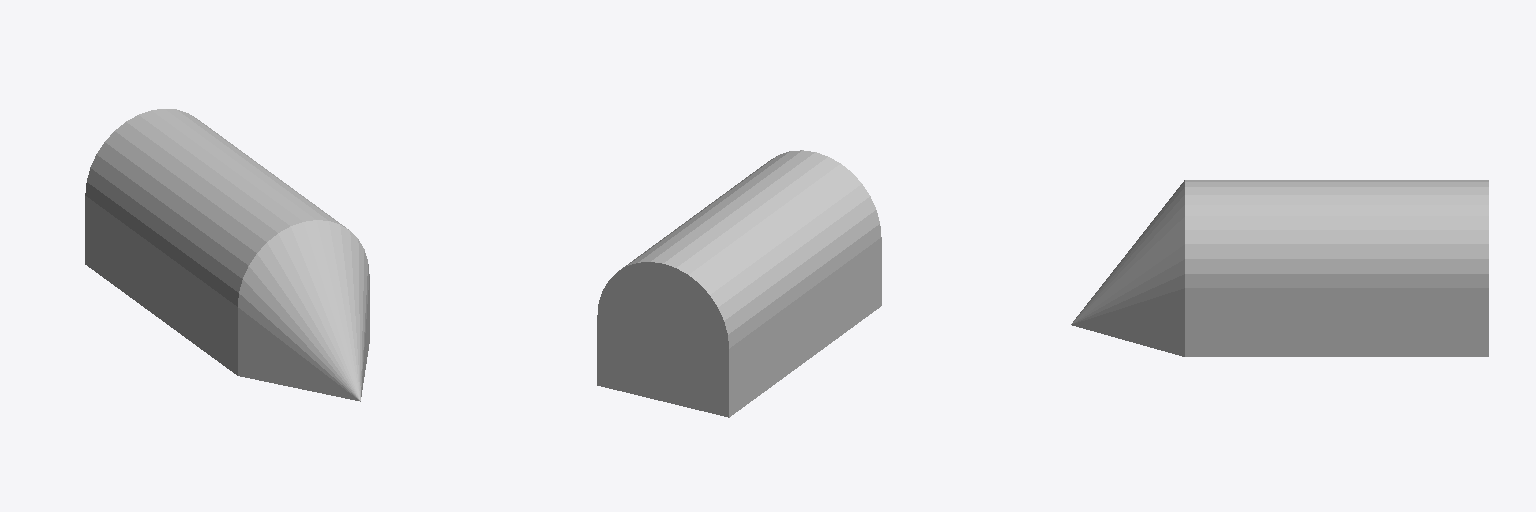
Rendered from CarBody.obj.
3 renders of one model, left to right at view 1: azimuth 30°, elevation 25°; view 2: azimuth 150°, elevation 25°; view 3: azimuth 270°, elevation 25°, orthographic.
Visible parts, largest first — view 1: Cylinder, Cylinder.001, Cube, Cube.001; view 2: Cylinder, Cube; view 3: Cylinder, Cube, Cylinder.001, Cube.001.
Boxes of the visible parts, x1,y1,x2,y2 form: Cylinder: [85, 109, 348, 306]; Cylinder.001: [238, 220, 369, 401]; Cube: [85, 196, 237, 375]; Cube.001: [238, 276, 369, 400]; Cylinder: [597, 150, 880, 348]; Cube: [597, 237, 881, 417]; Cylinder: [1185, 180, 1488, 287]; Cube: [1185, 288, 1488, 356]; Cylinder.001: [1071, 180, 1184, 324]; Cube.001: [1072, 288, 1184, 356].
Size of the model in its own units: 1 by 1 by 2.75.